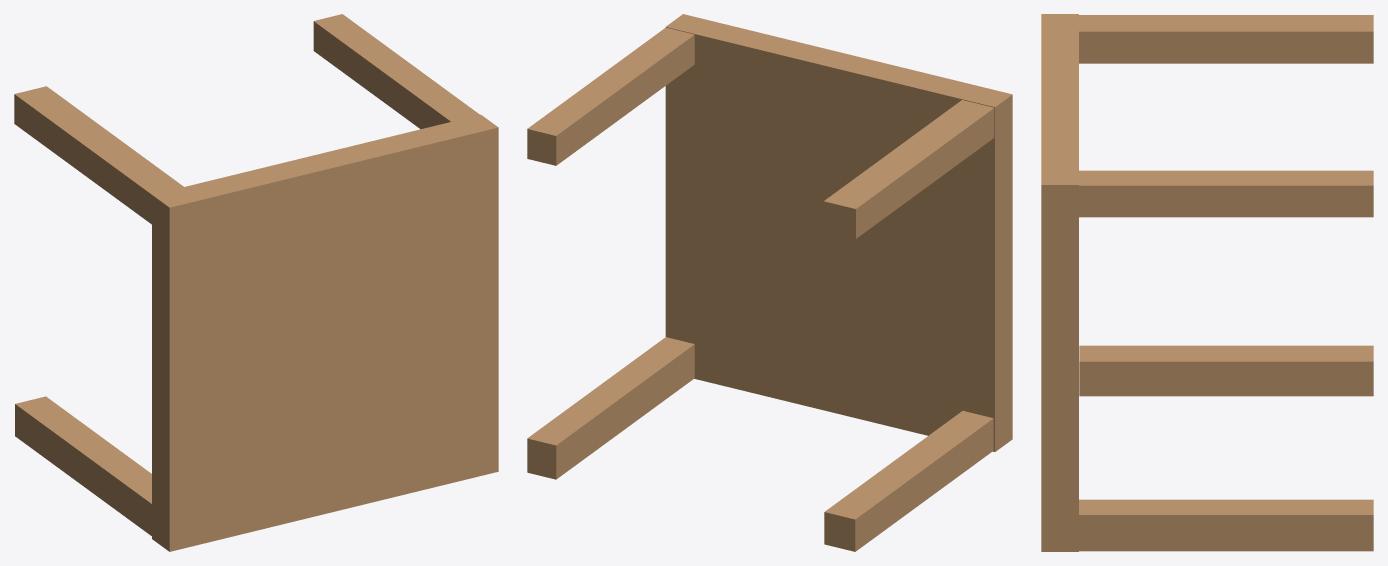
3 renders of one model, left to right at view 1: azimuth 30°, elevation 25°; view 2: azimuth 150°, elevation 25°; view 3: azimuth 270°, elevation 25°, orthographic. The views are drawn at different scales.
Visible parts, largest first — view 1: largetable.obj; view 2: largetable.obj; view 3: largetable.obj.
Boxes of the visible parts, box(x1,y1,x2,y2) form: largetable.obj: box(14, 14, 498, 551); largetable.obj: box(527, 14, 1012, 551); largetable.obj: box(1041, 14, 1373, 551).
Size of the model in its own units: 0.5619 by 0.5619 by 0.4611.
